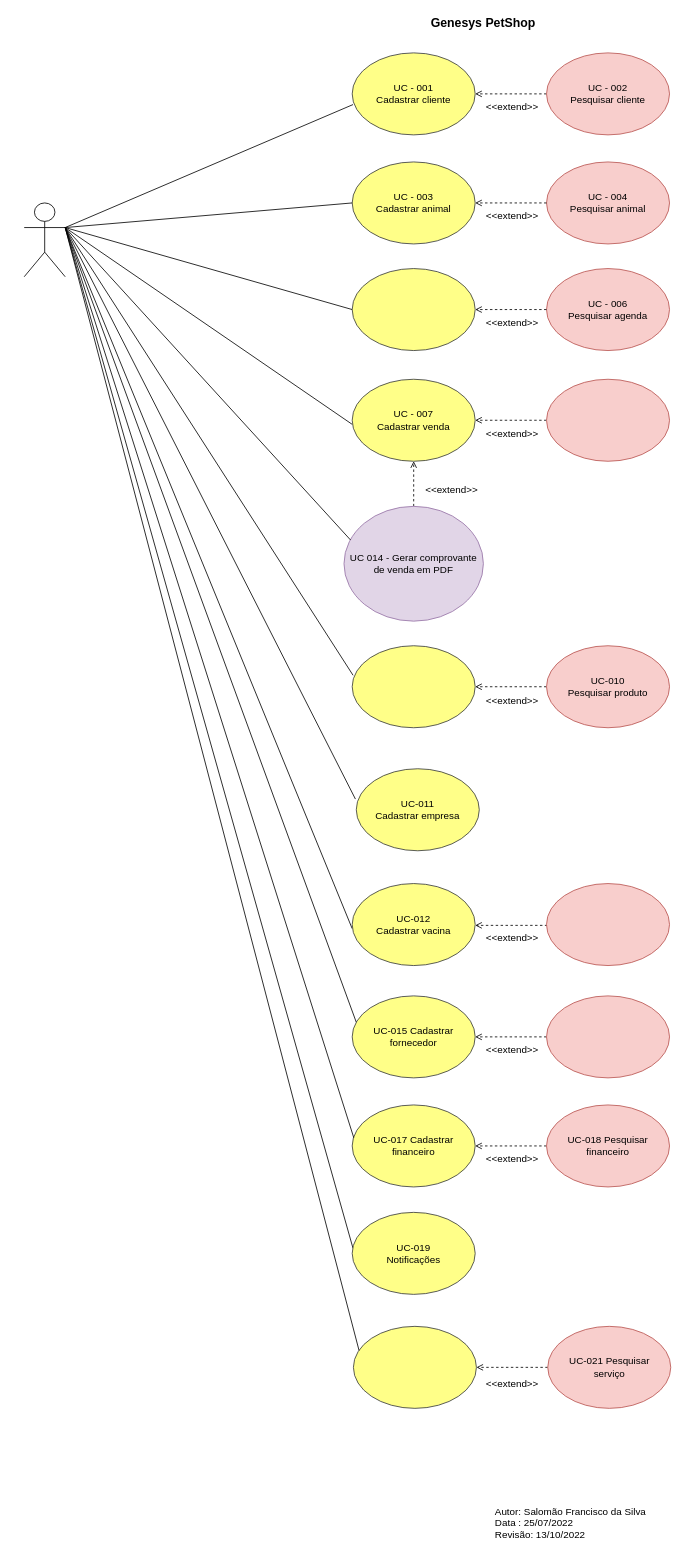
Image size: 686x1561. Some labels were removed from this diagram. The shapes that lost their labels are listed below. From the top down, each one's centre as x and y in pixels, then its label:
At [44,239]: "Recepcionista".
At [413,309]: "UC - 005 Cadastrar agenda".
At [608,419]: "UC - 008 Pesquisar venda".
At [413,686]: "UC-009 Cadastrar produto".
At [608,924]: "UC-013 Pesquisar vacina".
At [608,1036]: "UC-016 Pesquisar fornecedor".
At [414,1367]: "UC-020 Cadastrar serviço".
